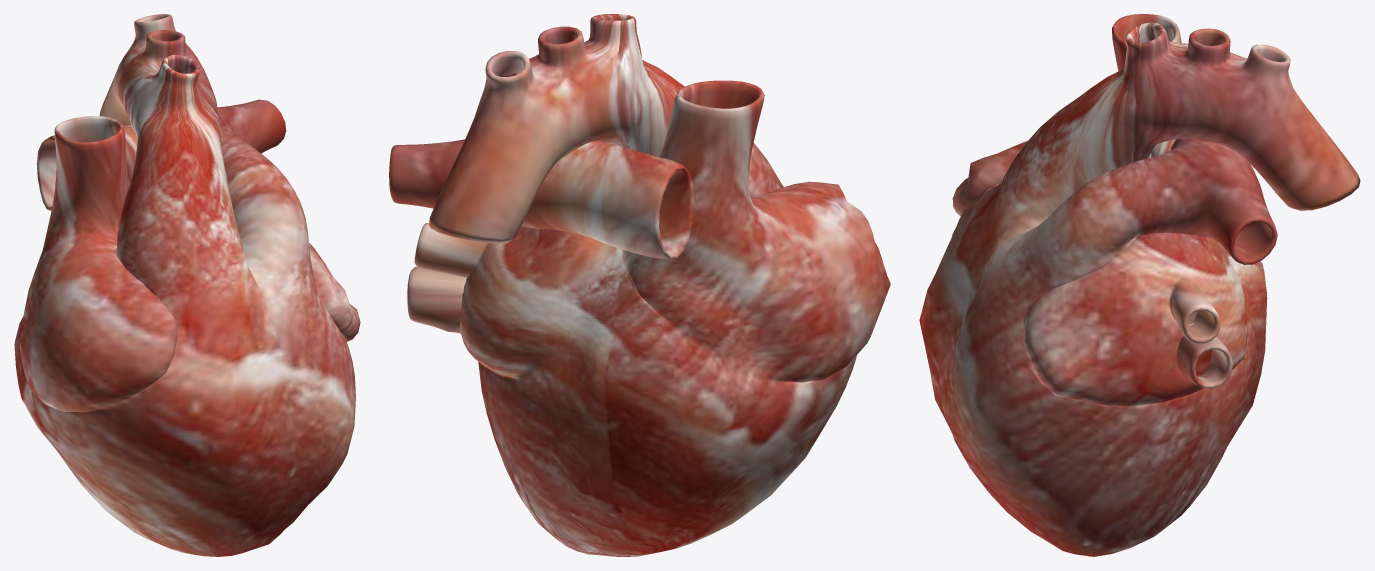
File: heart.fbx
3 views of the same model, side by side, from view 1: azimuth 30°, elevation 25°; view 2: azimuth 150°, elevation 25°; view 3: azimuth 270°, elevation 25° (orthographic). The views are drawn at different scales.
Visible parts, largest first — view 1: Human_Heart:null_; view 2: Human_Heart:null_; view 3: Human_Heart:null_.
Boxes of the visible parts, x1=… form: Human_Heart:null_: x1=14, y1=14, x2=360, y2=556; Human_Heart:null_: x1=389, y1=14, x2=890, y2=556; Human_Heart:null_: x1=919, y1=14, x2=1360, y2=556.
Bounding box in the file's own units: 11.49 × 16.29 × 12.72.
Materials: 1 (1 with a texture image).
